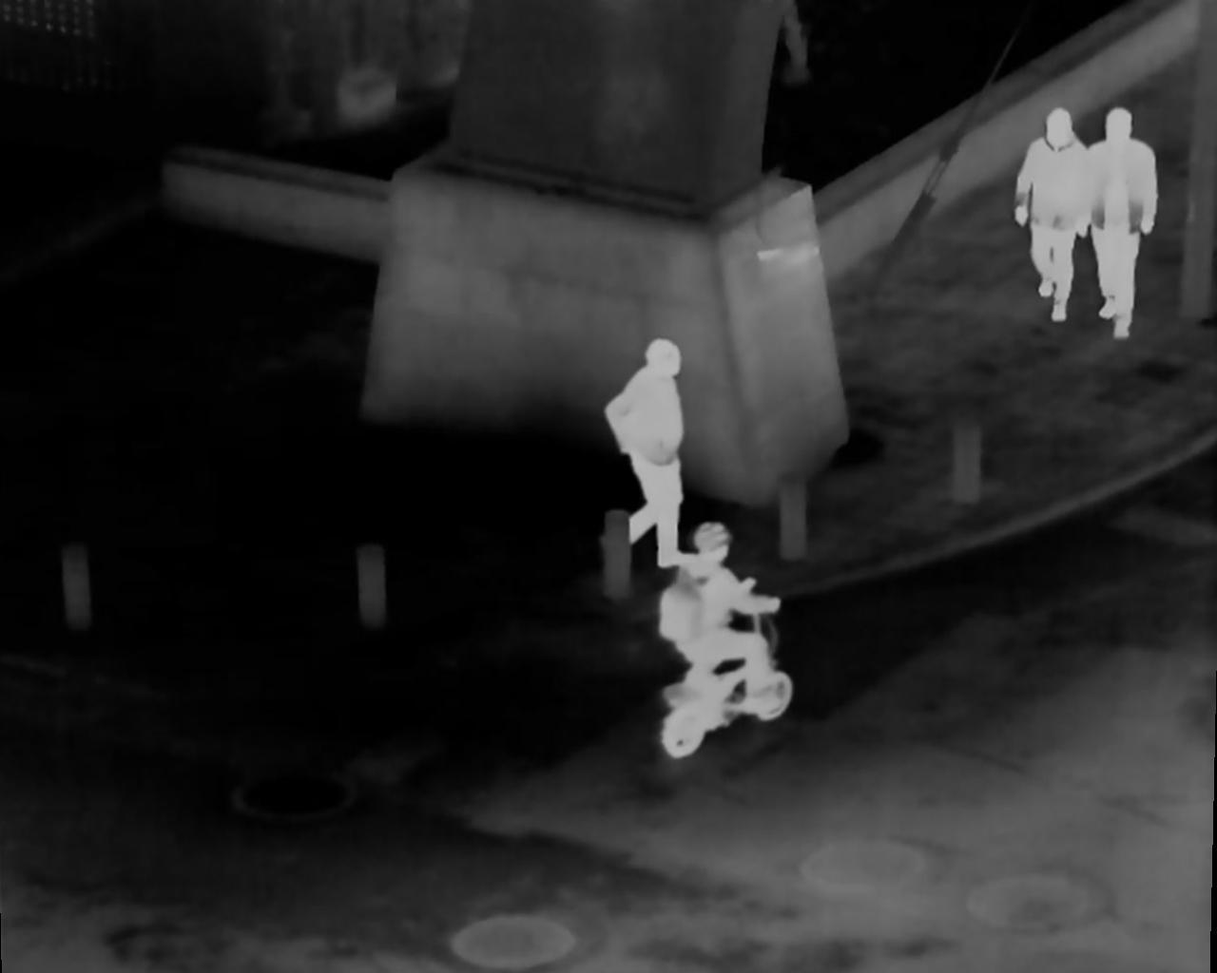person: (600, 337, 711, 592), (660, 523, 778, 732), (1002, 112, 1101, 319), (1094, 108, 1169, 348)
